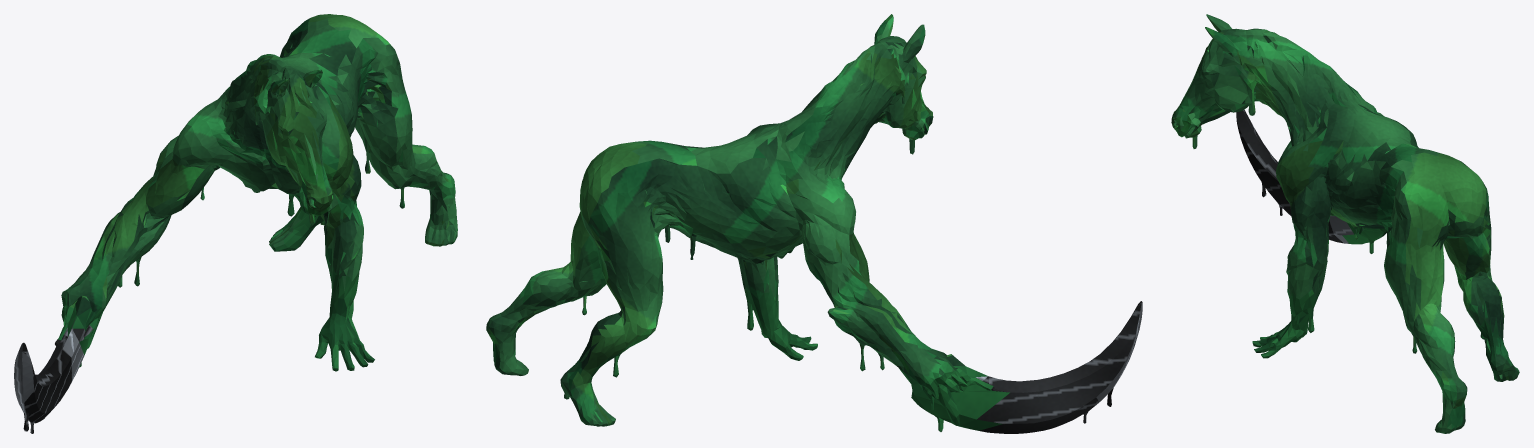
Rendered from longa_arma_lowpoly_from_original.glb.
3 renders of one model, left to right at view 1: azimuth 30°, elevation 25°; view 2: azimuth 150°, elevation 25°; view 3: azimuth 270°, elevation 25°, orthographic. The views are drawn at different scales.
Visible parts, largest first — view 1: LongaArma_LowPoly_FromOriginal; view 2: LongaArma_LowPoly_FromOriginal; view 3: LongaArma_LowPoly_FromOriginal.
Boxes of the visible parts, x1,y1,x2,y2 form: LongaArma_LowPoly_FromOriginal: (14, 14, 457, 433); LongaArma_LowPoly_FromOriginal: (486, 14, 1142, 433); LongaArma_LowPoly_FromOriginal: (1171, 14, 1519, 433).
Bounding box in the file's own units: 1.9 × 1.1 × 1.17.
3 materials, 3 textured.
